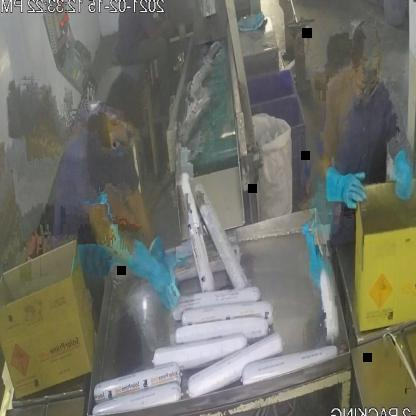glove: (121, 231, 189, 320), (320, 161, 366, 225)
no_glove: (142, 8, 178, 45)
